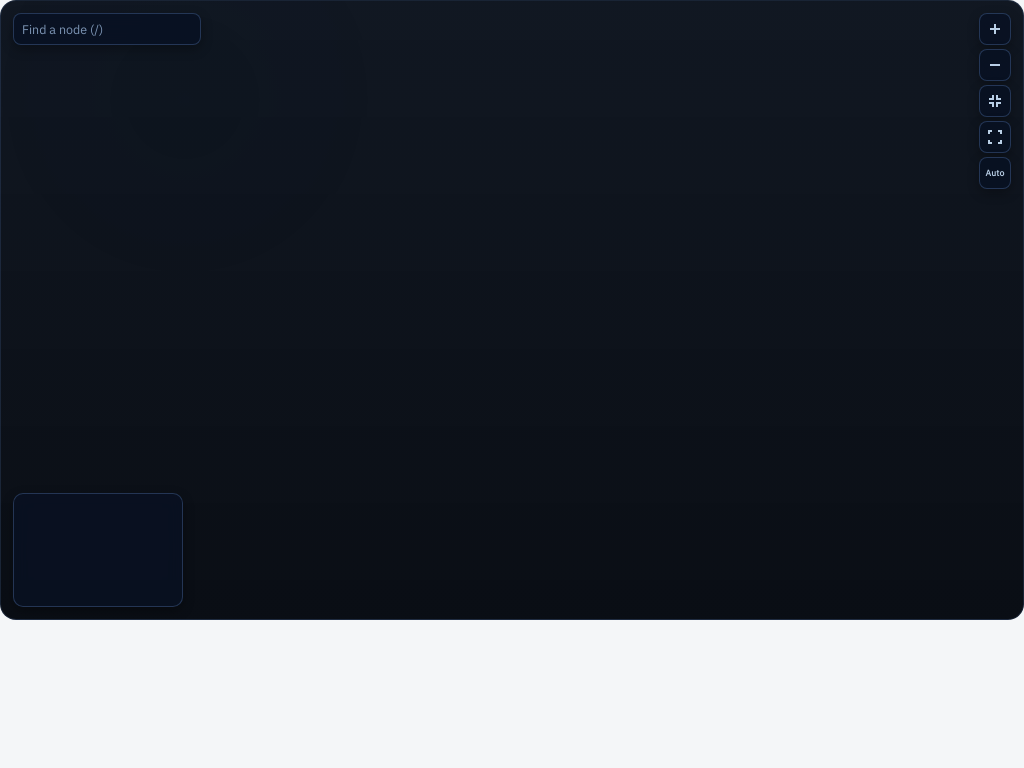
Test case: GraphCanvas multi-node context menu › shows the multi-node context menu when multiple cytoscape nodes are selected
This screenshot has width=1024, height=768.
Right-click the element with class "graph-surface" at [512, 310], box x1=0 y1=0 x2=1023 y2=620
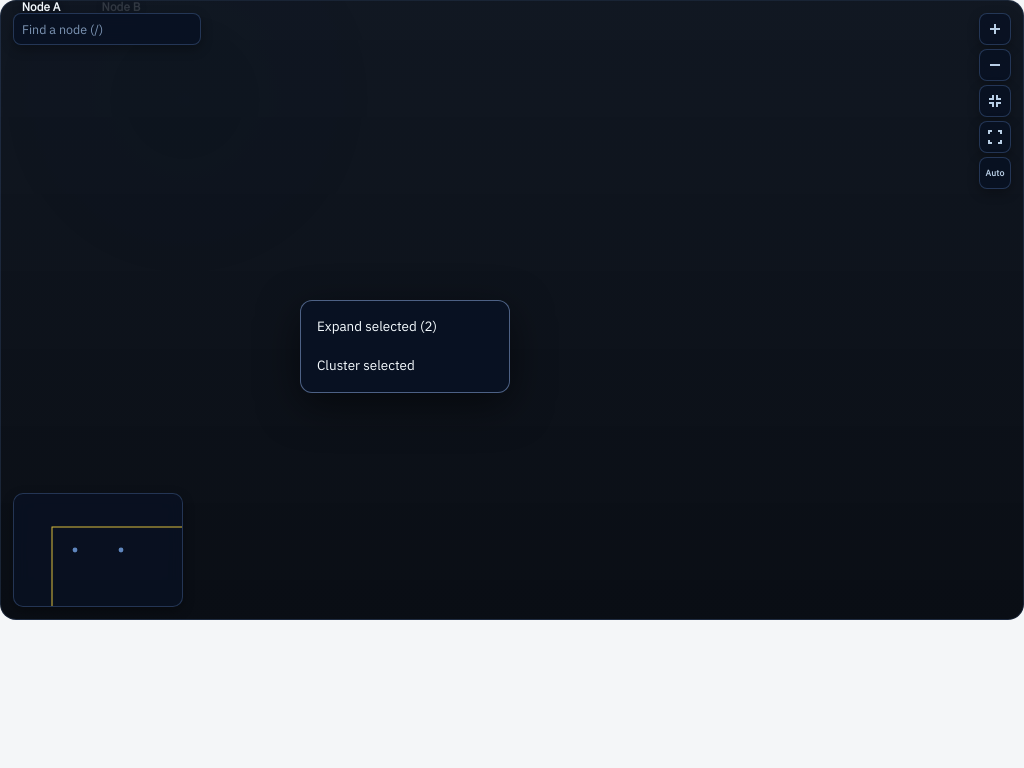
Result: the menu item "Expand selected (2)" is shown at x1=301 y1=307 x2=509 y2=346
Result: the menu item "Cluster selected" is shown at x1=301 y1=346 x2=509 y2=386
